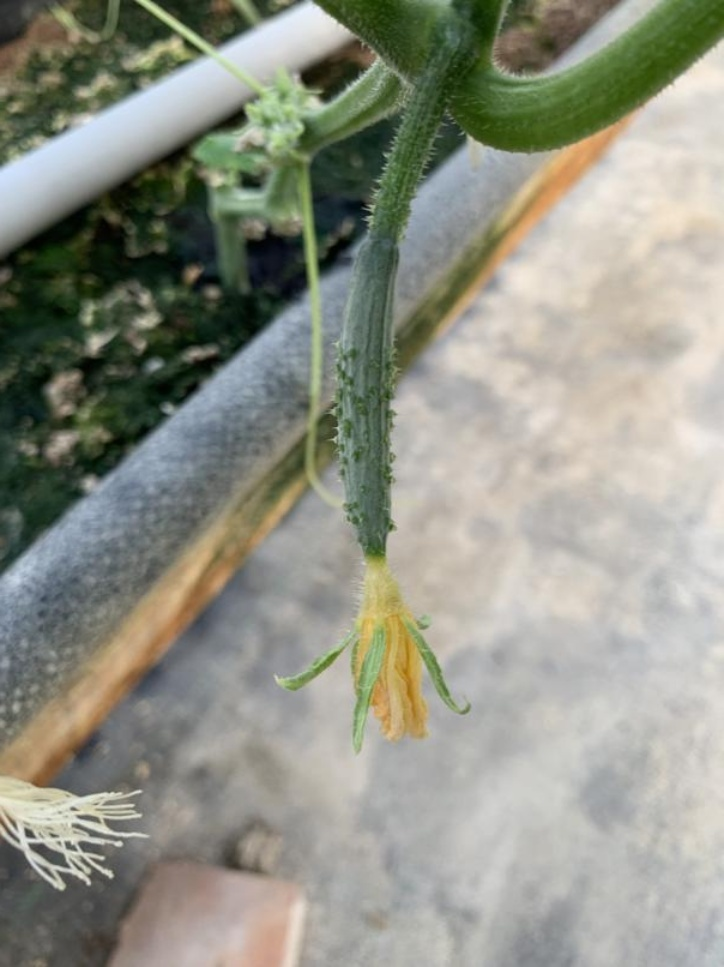bear: (271, 214, 488, 762)
